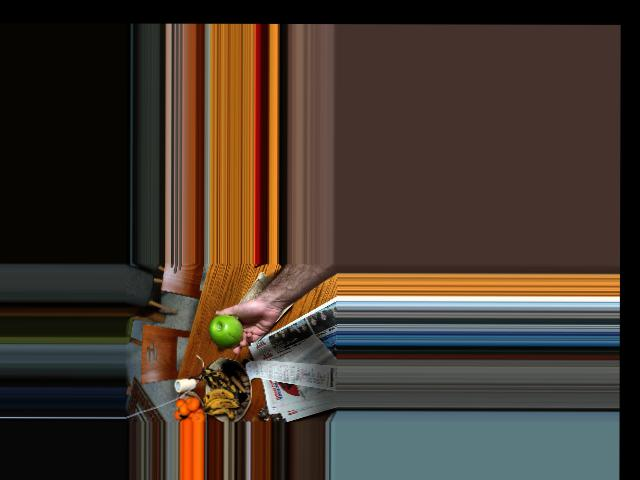apple: (206, 312, 242, 349)
